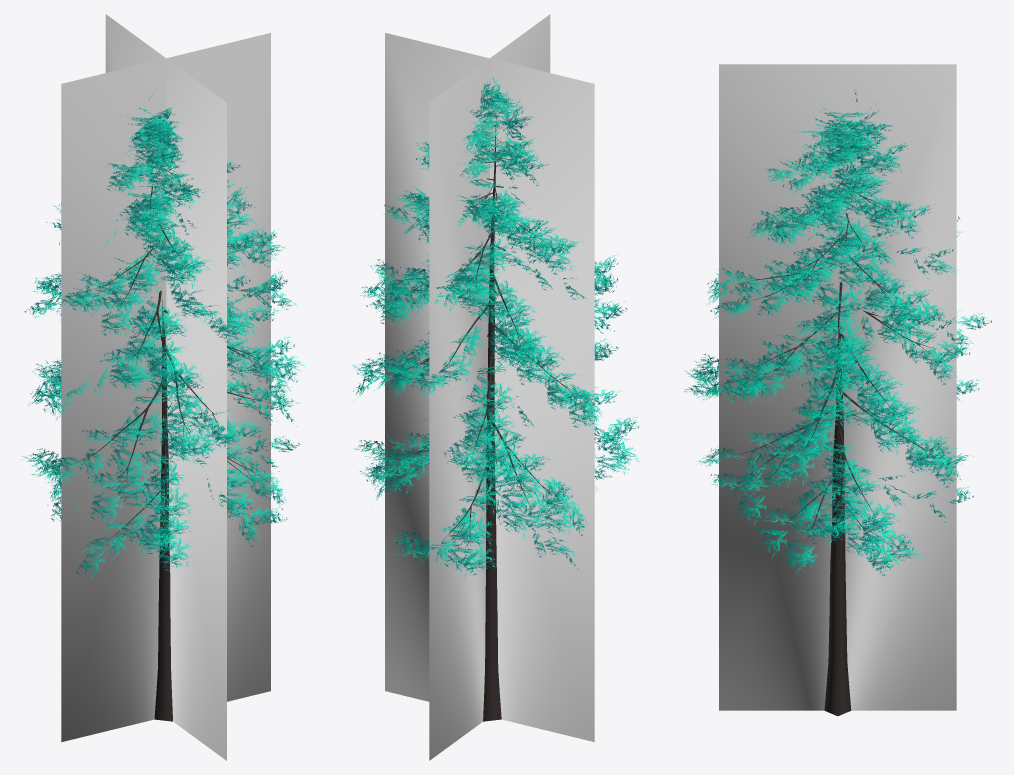
Rendered from PineTree.fbx.
The picture shows the model from 3 angles, left to right: view 1: azimuth 30°, elevation 25°; view 2: azimuth 150°, elevation 25°; view 3: azimuth 270°, elevation 25°; orthographic projection.
Visible parts, largest first — view 1: PineTree_Billboard, PineTree_Leaves, PineTree_LOD0; view 2: PineTree_Billboard, PineTree_Leaves, PineTree_LOD0; view 3: PineTree_Billboard, PineTree_Leaves, PineTree_LOD0.
Boxes of the visible parts, left/top/right/bottom form: PineTree_Billboard: left=61, top=14, right=270, bottom=760; PineTree_Leaves: left=22, top=89, right=304, bottom=579; PineTree_LOD0: left=59, top=160, right=271, bottom=721; PineTree_Billboard: left=385, top=14, right=594, bottom=760; PineTree_Leaves: left=351, top=76, right=639, bottom=578; PineTree_LOD0: left=385, top=116, right=607, bottom=721; PineTree_Billboard: left=719, top=64, right=956, bottom=710; PineTree_Leaves: left=684, top=90, right=991, bottom=575; PineTree_LOD0: left=720, top=141, right=938, bottom=716.
Bounding box in the file's own units: 2690 × 6000 × 2712.
